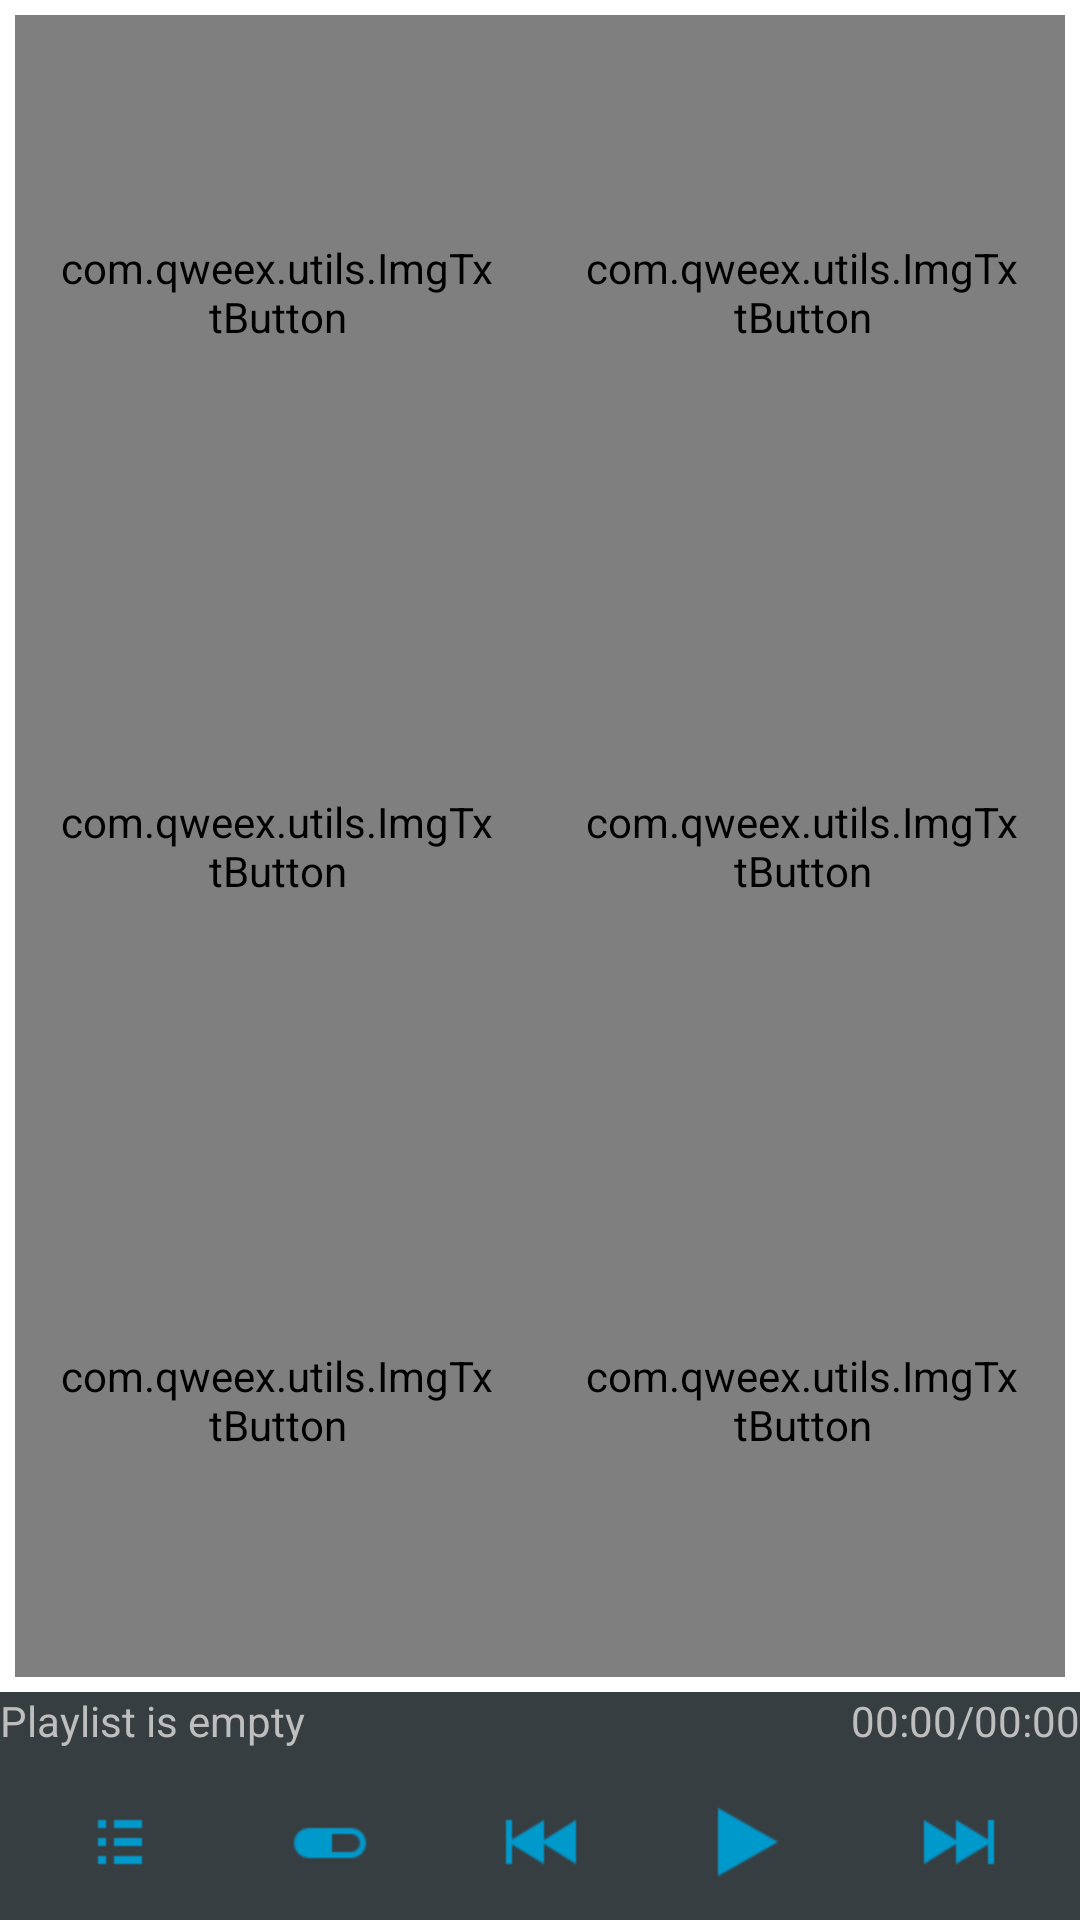

Icons on this 1080*1920 Android screen, each with the point to tap as [x,y]:
pill: [330,1843]
playback next: [959,1842]
playback play: [747,1842]
playback prev: [541,1842]
